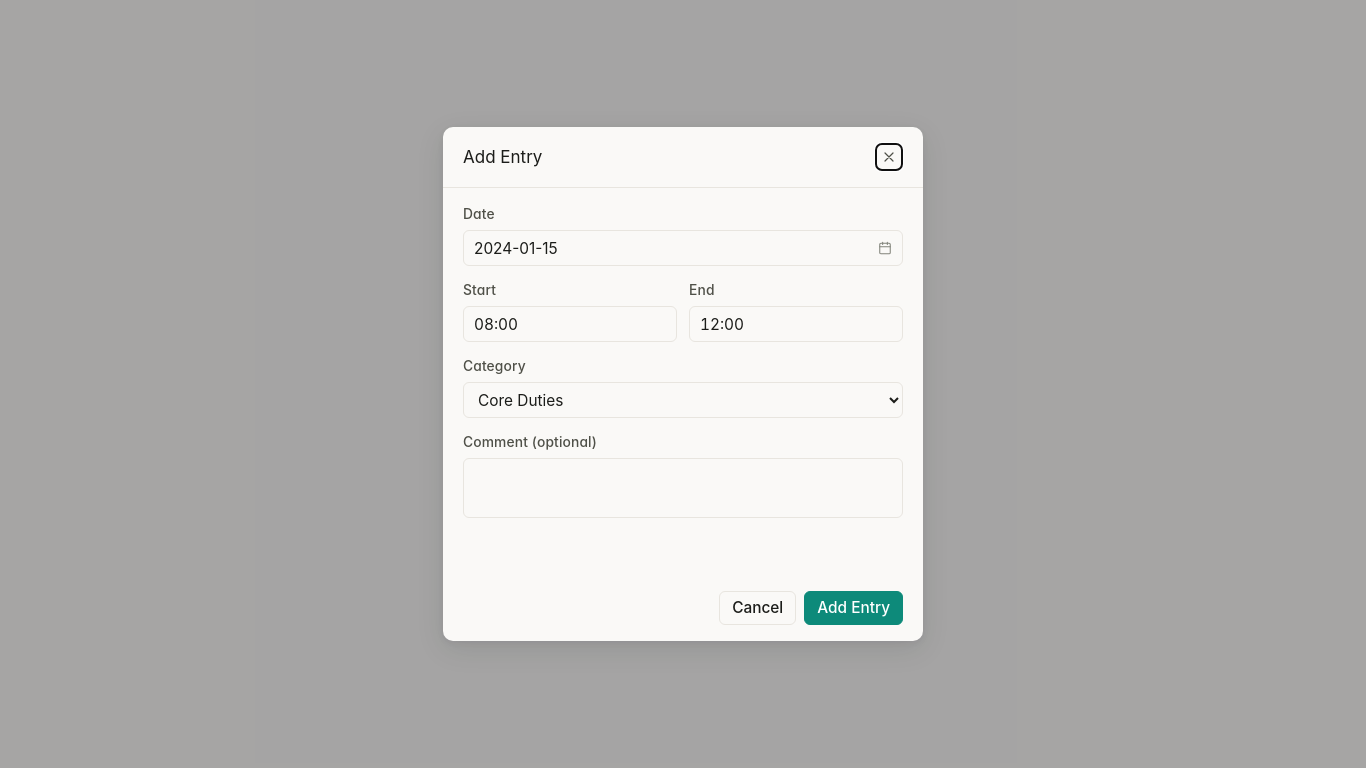
Test: EntryDialog › announces and reveals API errors in the scrolling dialog body
This screenshot has width=1366, height=768.
Click the button "Add Entry". click: (854, 608)
box: [804, 591, 903, 625]
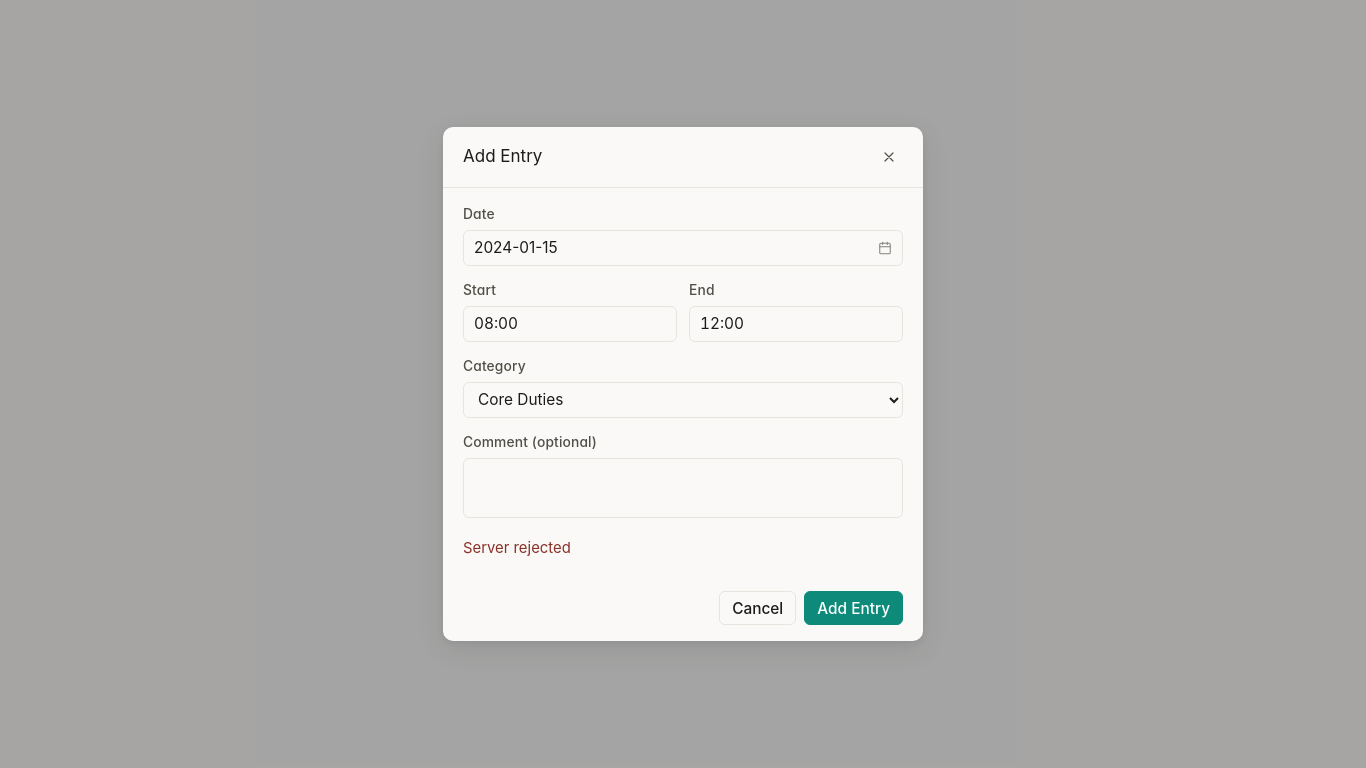
Result: the message "Server rejected" is shown at [463, 539, 571, 557]
